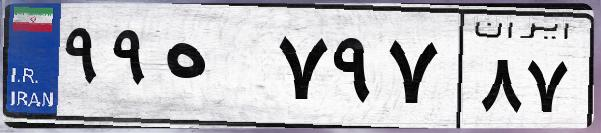7: (270, 28, 330, 110), (385, 28, 445, 110), (525, 38, 570, 115)
8: (475, 38, 525, 113)
9: (330, 28, 385, 110), (57, 26, 110, 100), (110, 28, 158, 98)
ه: (158, 20, 270, 120)
